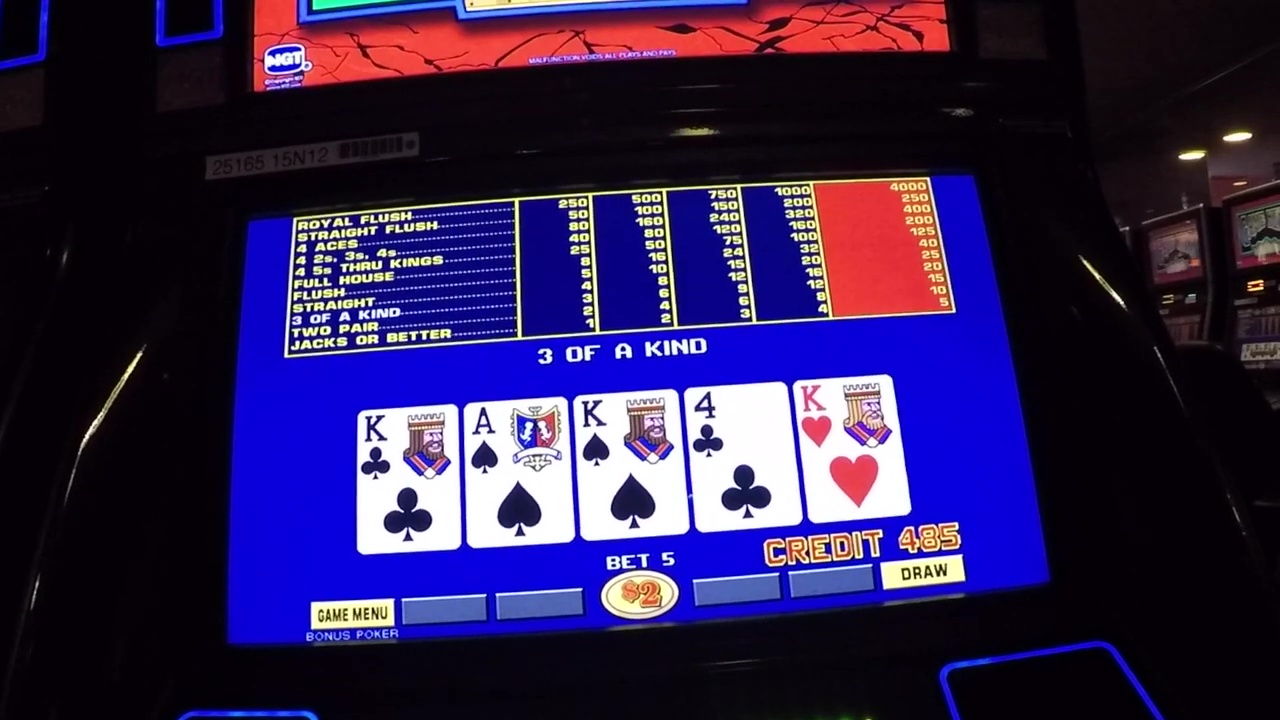C4: (693, 387, 790, 460)
CK: (359, 407, 458, 480)
HK: (802, 386, 896, 452)
SA: (469, 401, 564, 476)
SK: (577, 395, 677, 466)
